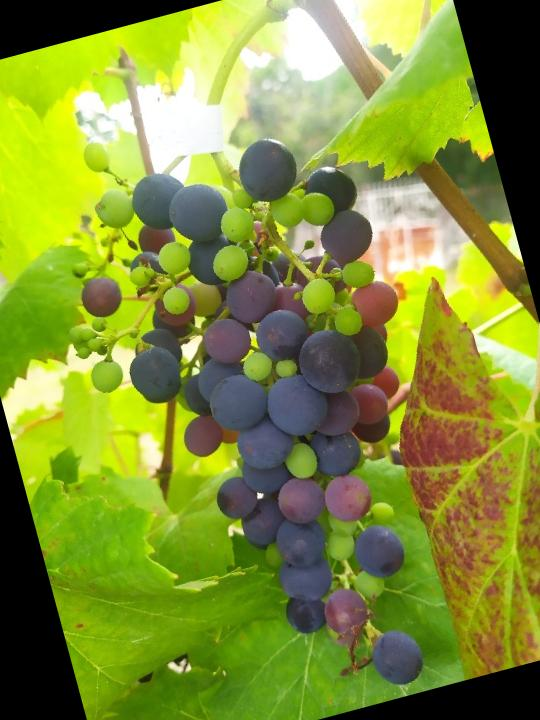grape: (19, 71, 500, 720)
